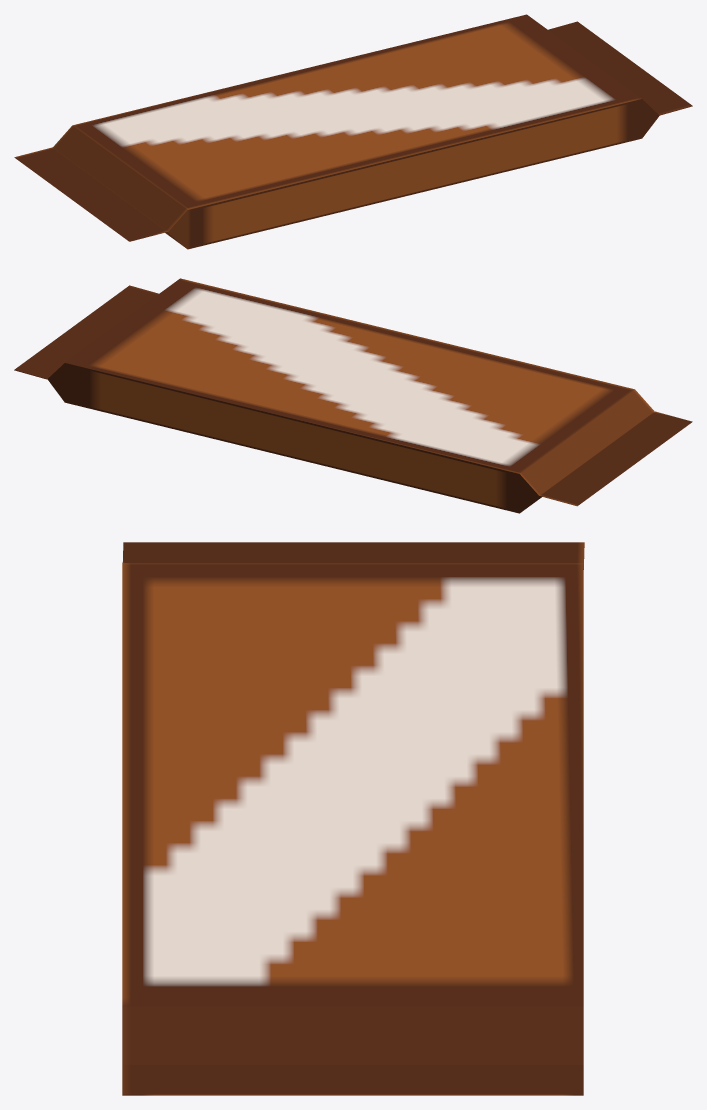
File: ChocolateBar.fbx
3 renders of one model, top to bottom at view 1: azimuth 30°, elevation 25°; view 2: azimuth 150°, elevation 25°; view 3: azimuth 270°, elevation 25°, orthographic. The views are drawn at different scales.
Parts seen in each view (by area): view 1: ChocolateBar; view 2: ChocolateBar; view 3: ChocolateBar.
Boxes of the visible parts, box(x1,y1,x2,y2) form: ChocolateBar: box(14, 14, 692, 249); ChocolateBar: box(14, 278, 692, 513); ChocolateBar: box(122, 542, 584, 1095).
Size of the model in its own units: 90.66 by 6.12 by 32.21.
1 material, 1 textured.
